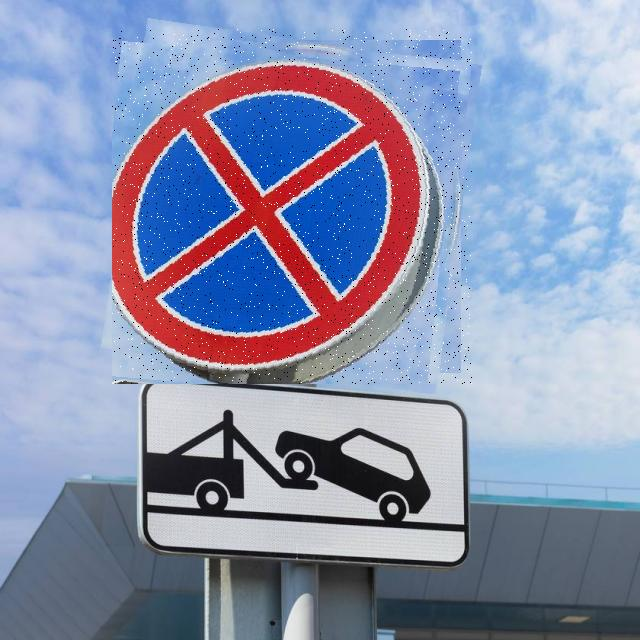no stopping: (112, 29, 472, 384)
